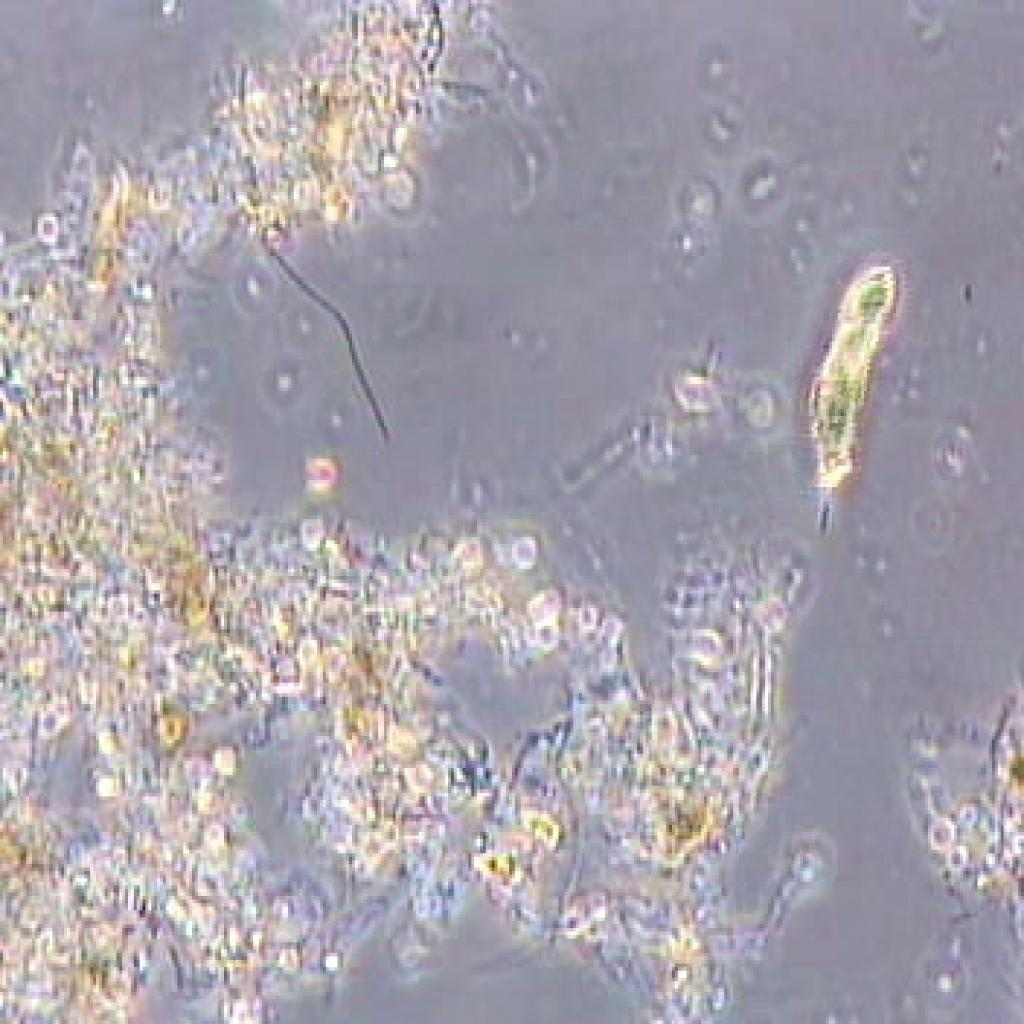Chaetonotus: (798, 249, 900, 551)
